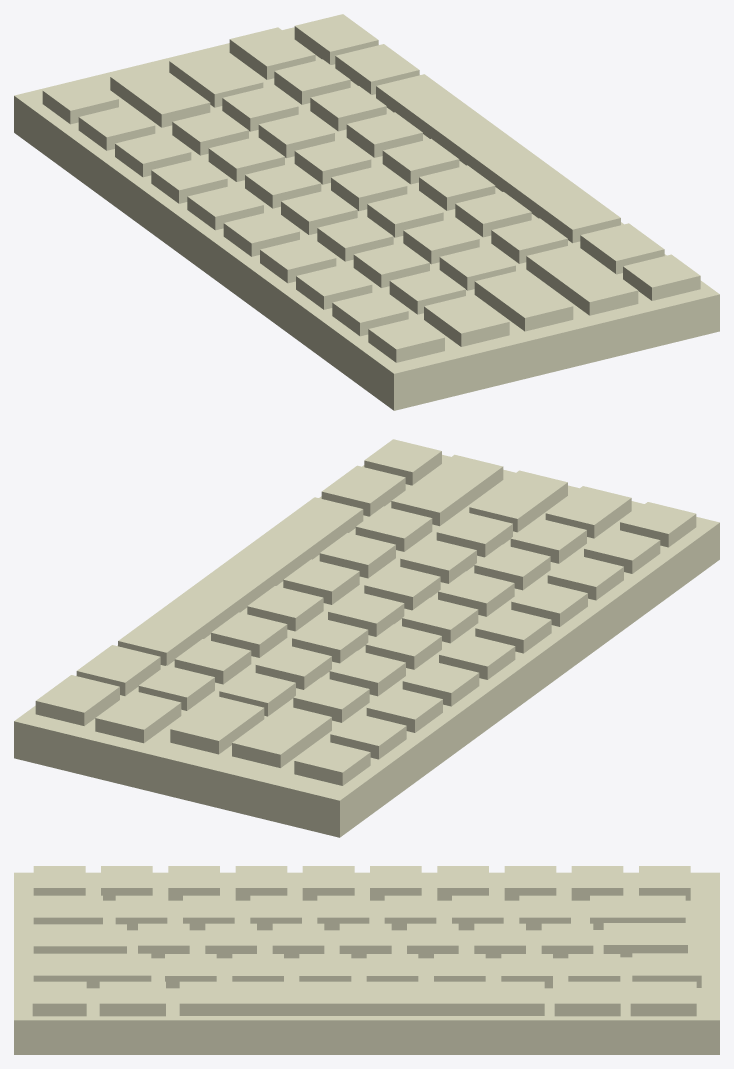
File: keyboard.fbx
The picture shows the model from 3 angles, top to bottom: view 1: azimuth 30°, elevation 25°; view 2: azimuth 150°, elevation 25°; view 3: azimuth 270°, elevation 25°; orthographic projection. The views are drawn at different scales.
Visible parts, largest first — view 1: Cube.048; view 2: Cube.048; view 3: Cube.048.
Part boxes in pixels (<box>): Cube.048: <box>14,14,719,410</box>; Cube.048: <box>14,439,719,837</box>; Cube.048: <box>14,866,719,1054</box>.
Size of the model in its own units: 200 by 29.66 by 404.
